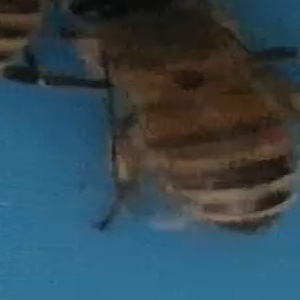bee: (65, 1, 300, 243)
